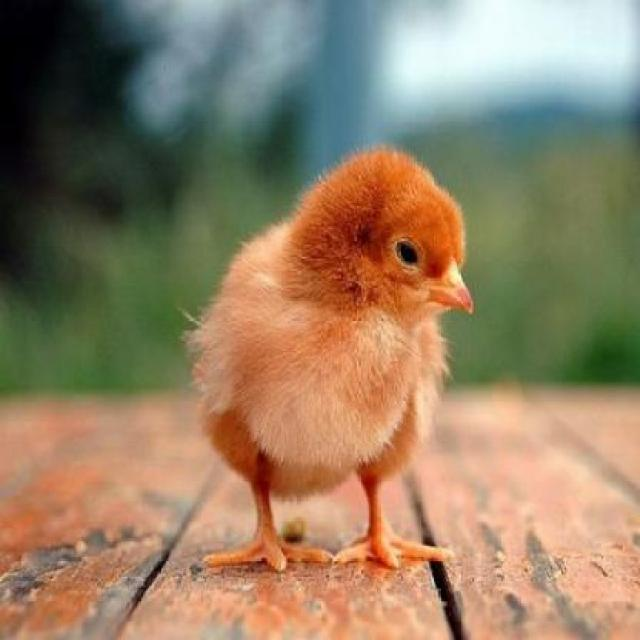poussin: (185, 141, 475, 590)
